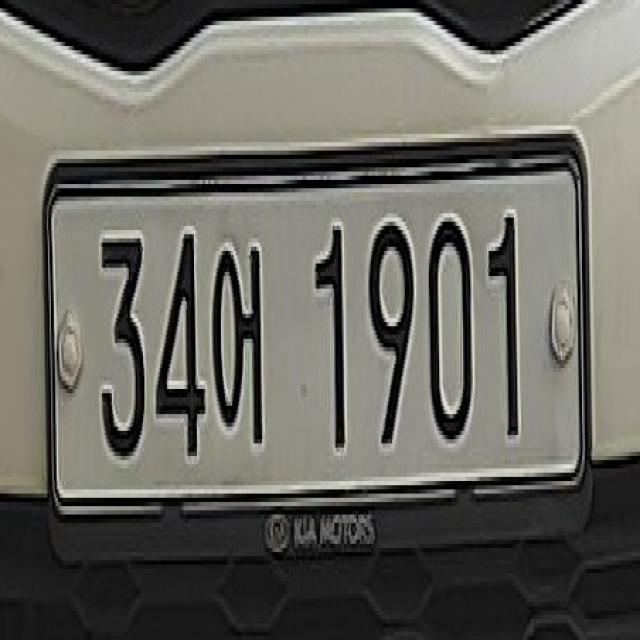0: (423, 200, 473, 448)
1: (486, 205, 521, 443), (314, 218, 348, 452)
3: (96, 226, 146, 464)
4: (153, 226, 208, 464)
9: (366, 205, 416, 452)
eo: (211, 238, 268, 448)
license_plate: (45, 163, 588, 523)
